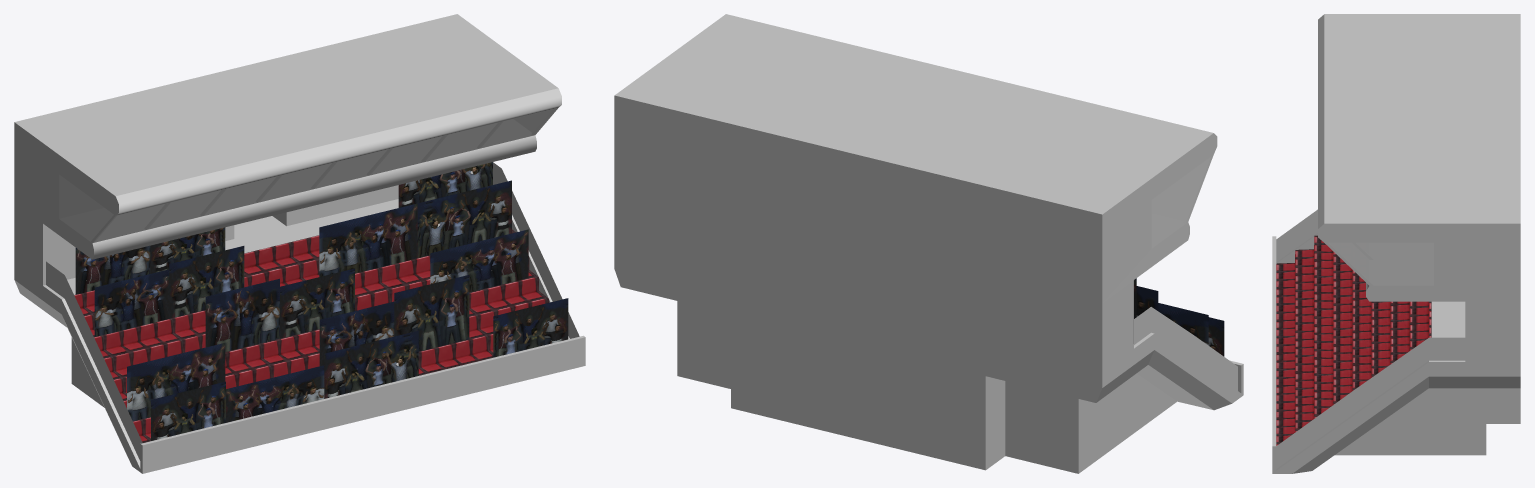
The model's file is Grandstand_A.fbx.
3 renders of one model, left to right at view 1: azimuth 30°, elevation 25°; view 2: azimuth 150°, elevation 25°; view 3: azimuth 270°, elevation 25°, orthographic. The views are drawn at different scales.
Visible parts, largest first — view 1: Concrete, Crowd_A, Seats, Glass, Side_Fence; view 2: Concrete, Side_Fence, Glass, Crowd_A; view 3: Concrete, Seats, Side_Fence, Glass.
Boxes of the visible parts, x1,y1,x2,y2 form: Concrete: (14,14,585,473); Crowd_A: (75,162,568,440); Seats: (74,229,548,442); Glass: (59,108,557,242); Side_Fence: (46,162,579,460); Concrete: (614,14,1243,473); Side_Fence: (1134,307,1237,390); Glass: (1151,155,1213,248); Crowd_A: (1134,278,1224,356); Concrete: (1272,14,1520,473); Seats: (1276,235,1431,445); Side_Fence: (1276,209,1465,468); Glass: (1324,242,1433,285).
Bounding box in the file's own units: 1968 × 1096 × 986.
